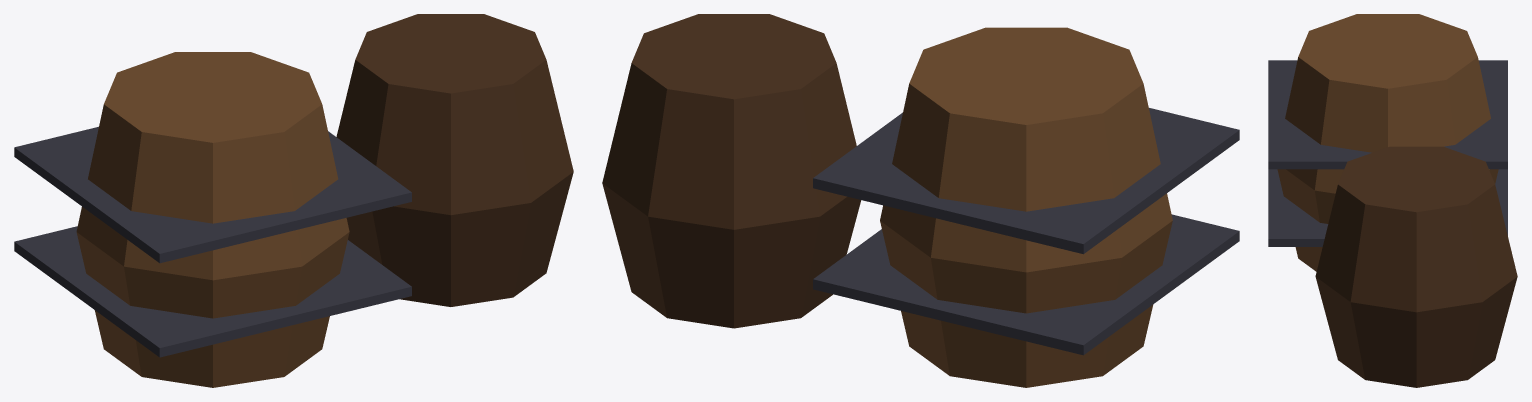
Rendered from a3k_barrels.glb.
The picture shows the model from 3 angles, left to right: view 1: azimuth 30°, elevation 25°; view 2: azimuth 150°, elevation 25°; view 3: azimuth 270°, elevation 25°; orthographic projection. The views are drawn at different scales.
Visible parts, largest first — view 1: a3k_barrels; view 2: a3k_barrels; view 3: a3k_barrels.
Boxes of the visible parts, <box> form: a3k_barrels: <box>14,14,573,387</box>; a3k_barrels: <box>602,14,1239,387</box>; a3k_barrels: <box>1268,14,1517,387</box>.
Size of the model in its own units: 1.63 by 0.8 by 0.8745.
